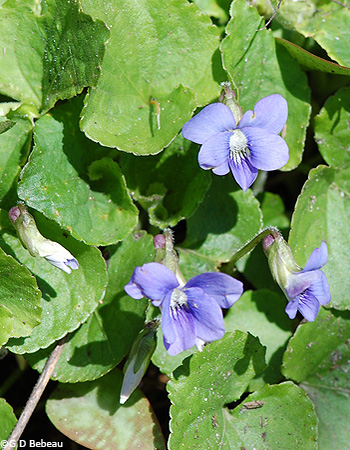violet: (123, 259, 245, 359), (176, 99, 293, 190), (264, 232, 335, 328)
